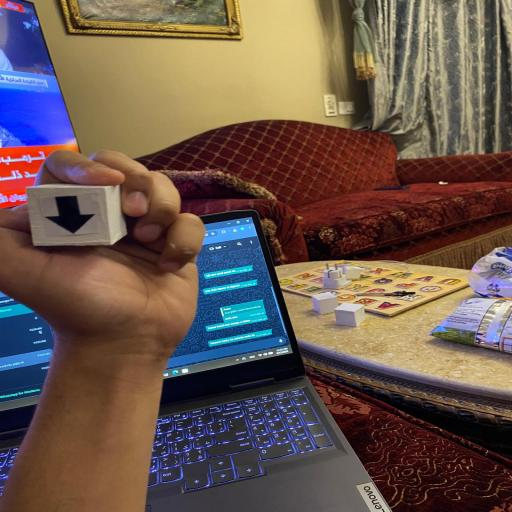Down: (25, 183, 129, 247)
